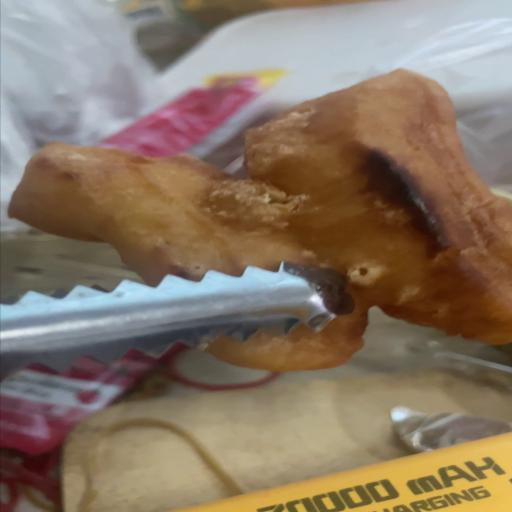street_burnt_defect: (8, 66, 512, 370)
